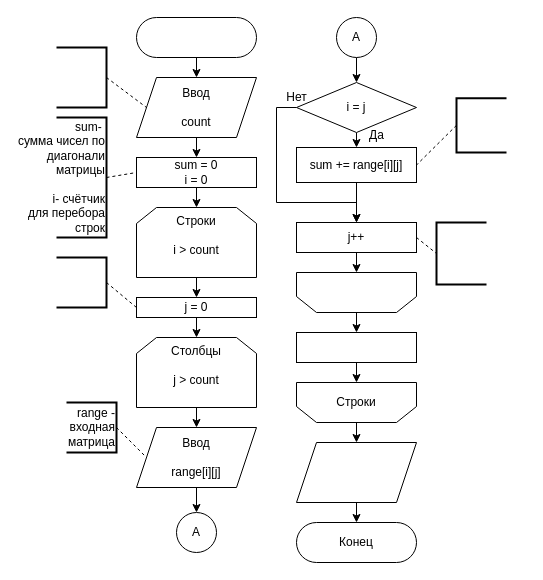
Image size: 543x580. Some labels were removed from this diagram. The centre of each missing label's shape, as x and y in pixels:
"a++ - тоже, что a=a+1" goes at pixel 461 253.
"a+=10-тоже, что а=a+10" goes at pixel 481 125.
"count- размерность матрицы" goes at pixel 81 77.
"i++" goes at pixel 356 347.
"j- счётчик для перебора столбцов" goes at pixel 81 282.
"Вывод sum" goes at pixel 356 472.
"Начало" goes at pixel 196 37.
"Столбцы" goes at pixel 356 292.
